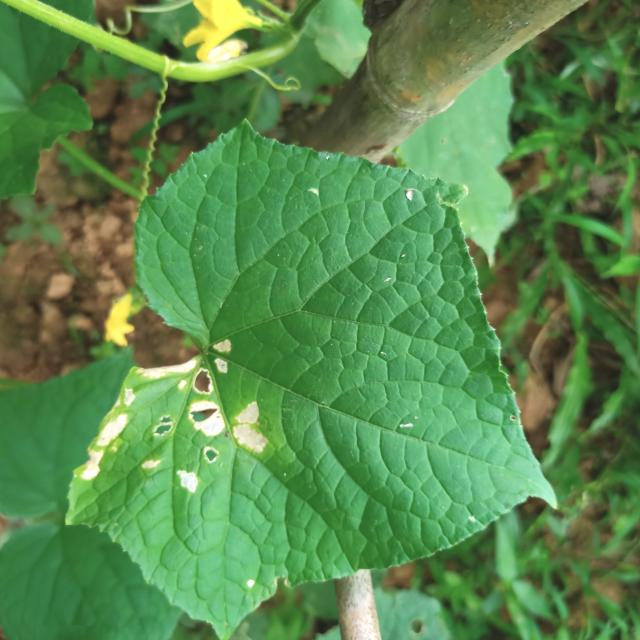disease_cucumber: (80, 341, 268, 494)
